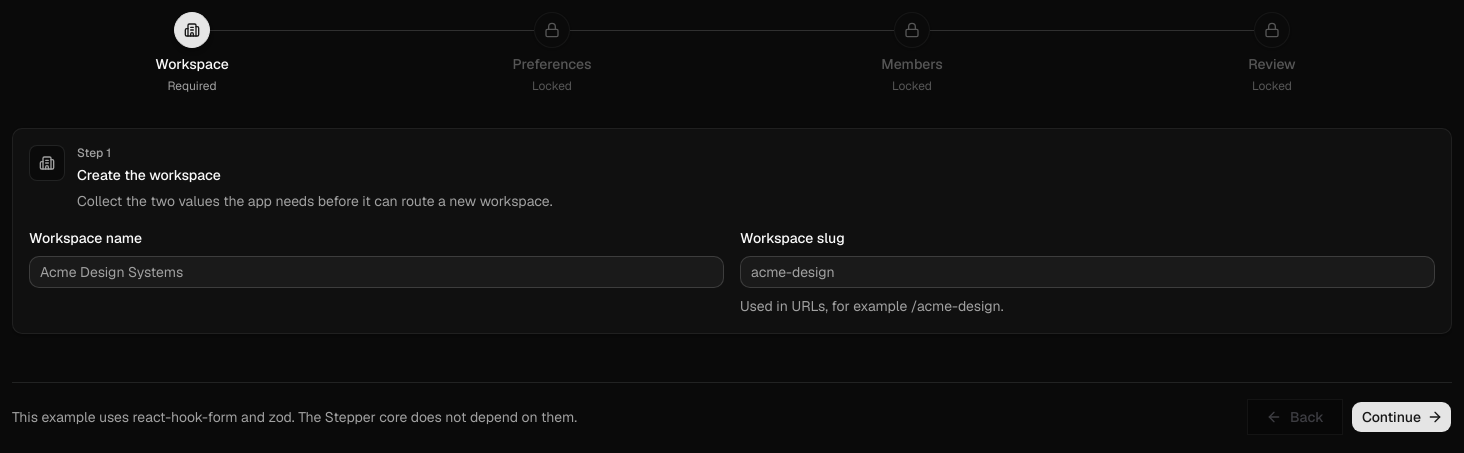
Scenario: Stepper examples › keeps the active workspace step visually current after returning from a completed step
The image size is (1464, 453).
Type "Acme" into the field labelled "Workspace name" at coordinates (376, 272), box [29, 256, 724, 288]
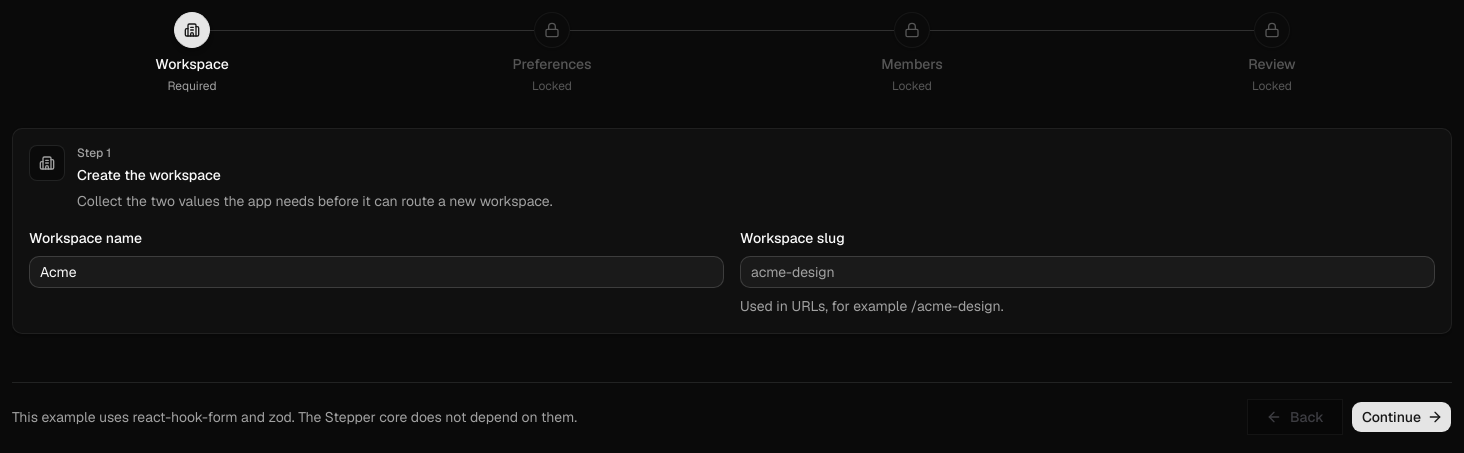
Type "acme" into the field labelled "Workspace slug" at coordinates (1088, 272), box [740, 256, 1435, 288]
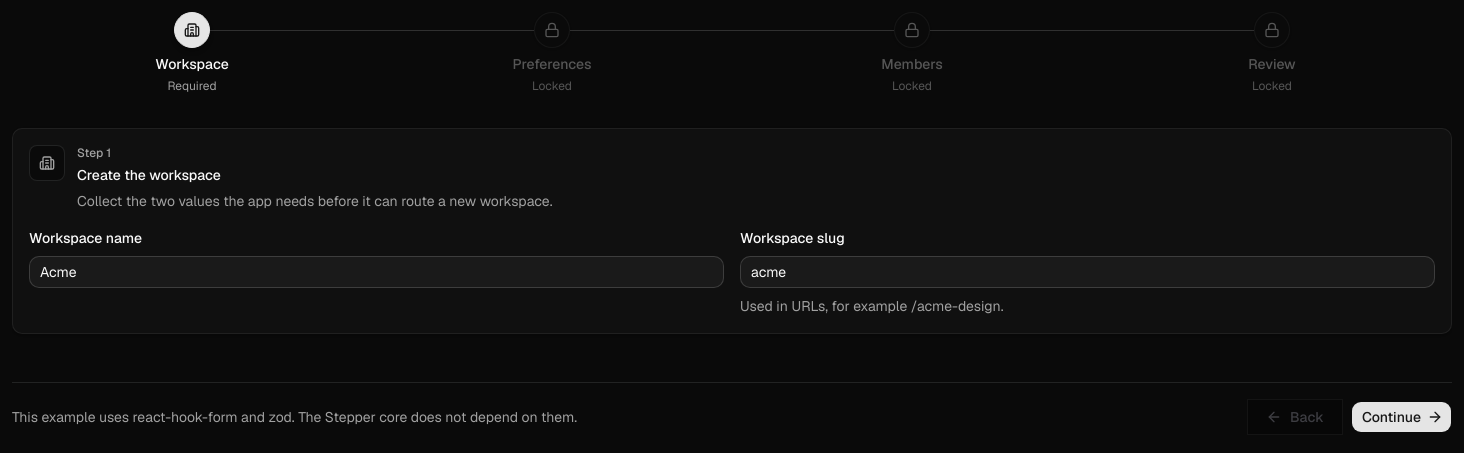
Click the button "Continue" at coordinates (1401, 417), box [1351, 401, 1452, 433]
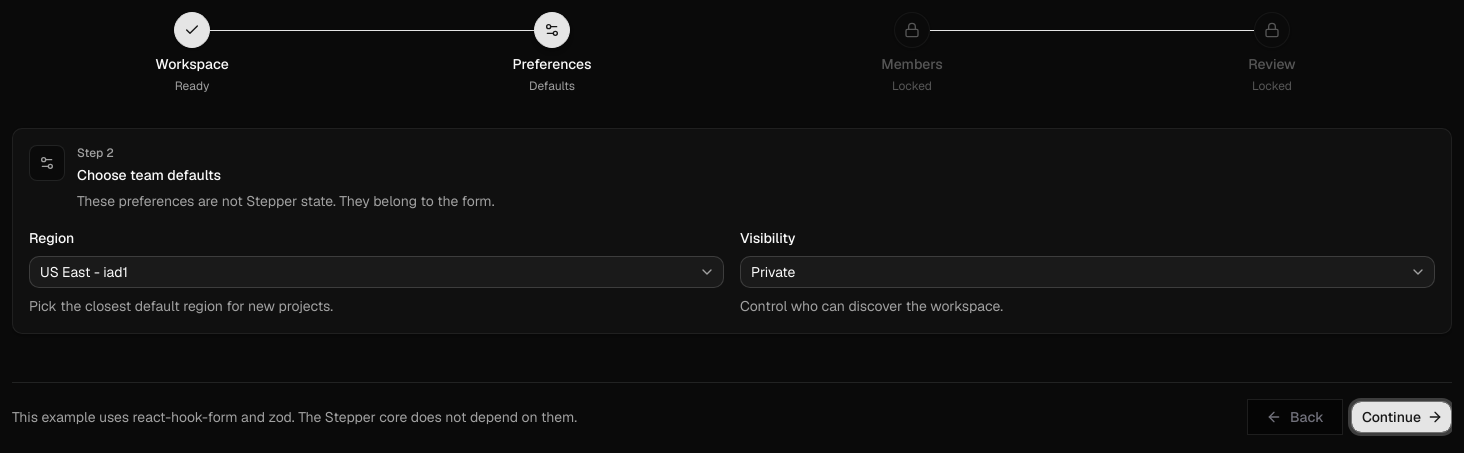
Click the button "Back" at coordinates (1295, 417), box [1247, 399, 1343, 435]
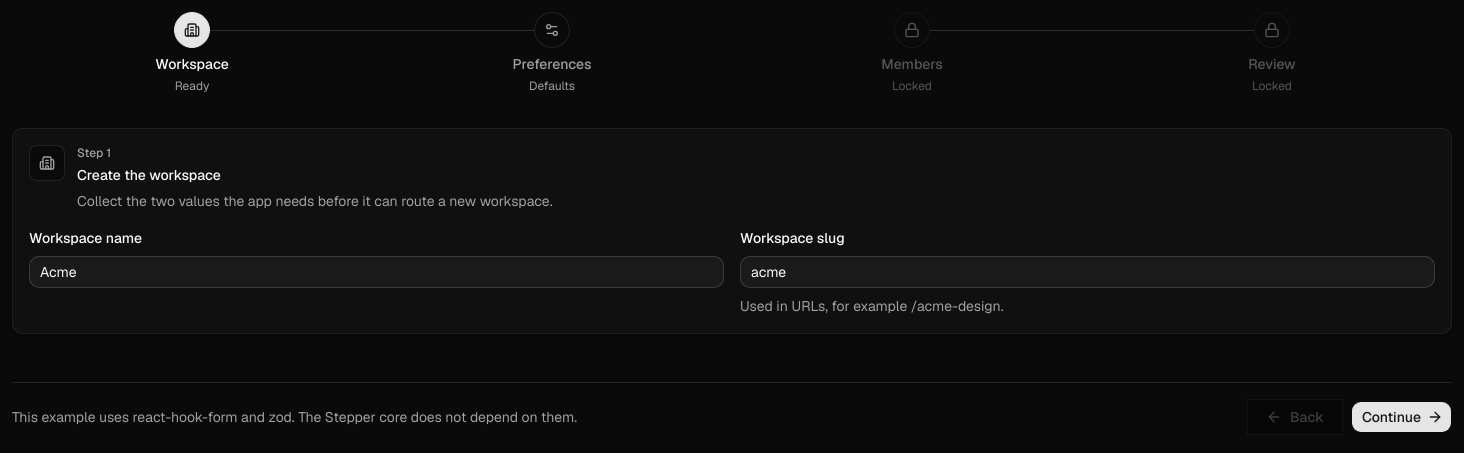
Now the icon with class "lucide-check" is gone
